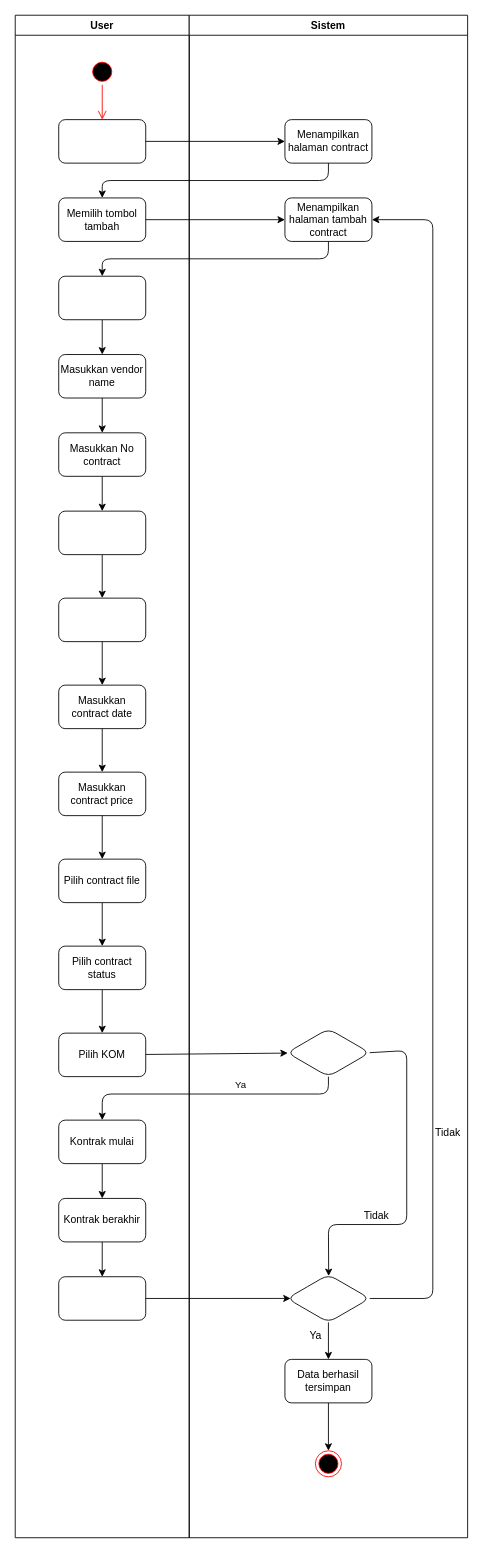
Image size: 485x1553. Some labels were removed from this diagram. The shapes that lost their labels are listed below. From the top down, each one's centre as x and y in pixels, then its label:
At [102,141]: "Membuka halaman contract".
At [102,297]: "Masukkan No vendor".
At [102,532]: "Masukkan contract name".
At [102,619]: "Masukkan contract type".
At [328,1052]: "Available".
At [102,1298]: "Notulensi KOM".
At [328,1298]: "Validasi data".
